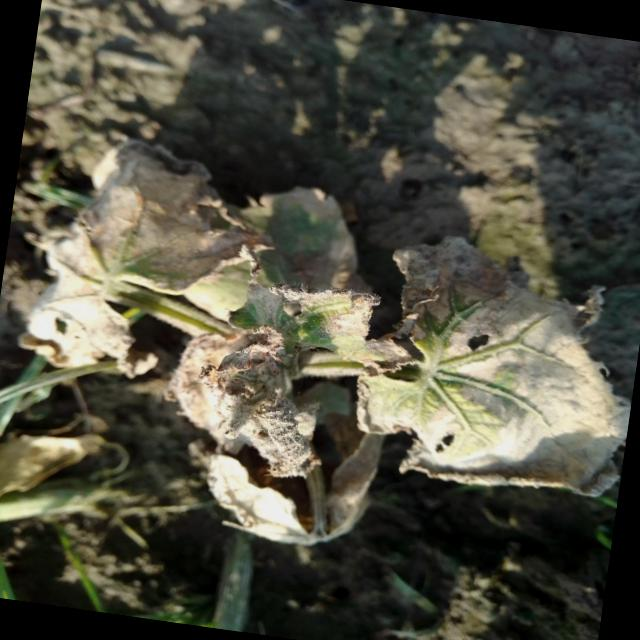cucumber_bacterial: (351, 195, 640, 531), (12, 124, 276, 396), (166, 163, 398, 376), (141, 323, 342, 491), (203, 422, 406, 575), (0, 412, 101, 545)
